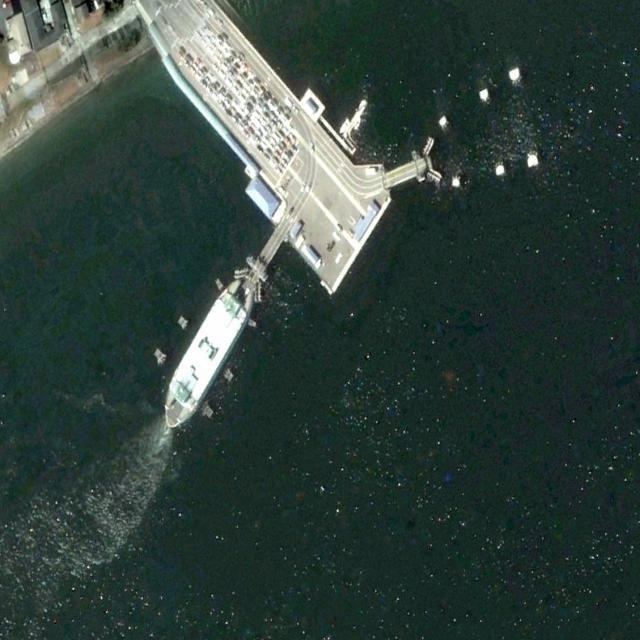RoRo: (152, 263, 263, 439)
